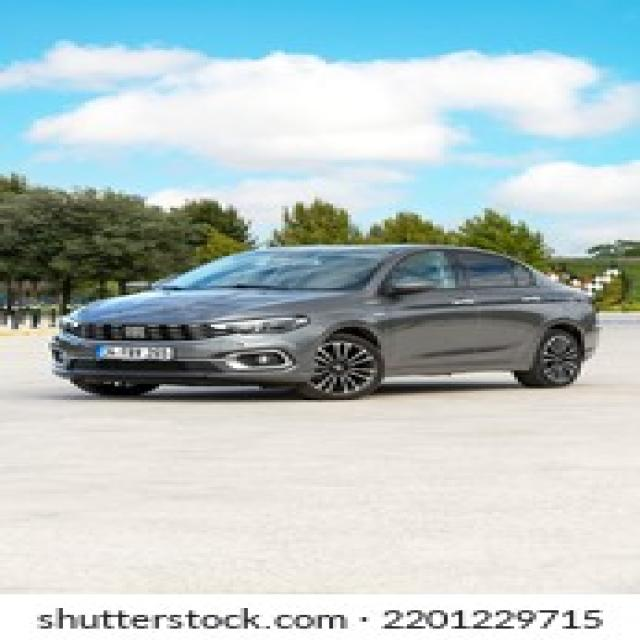fiat: (112, 324, 162, 339)
